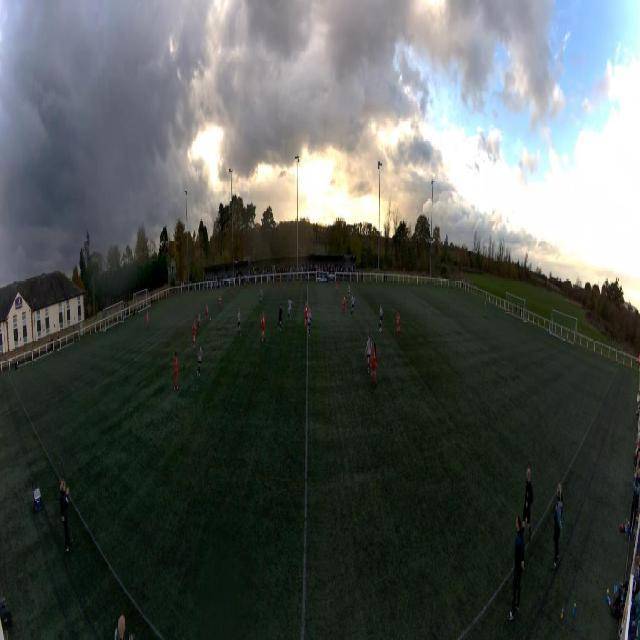ball: (210, 318, 211, 322)
player: (365, 332, 372, 378), (370, 345, 378, 385), (395, 309, 402, 339), (173, 351, 178, 392), (305, 304, 311, 338), (197, 340, 202, 378), (287, 296, 294, 321), (261, 312, 266, 342), (304, 301, 309, 331), (192, 317, 196, 351), (278, 303, 283, 330), (350, 292, 355, 318), (378, 303, 382, 334), (237, 309, 241, 338), (204, 304, 208, 326), (342, 293, 346, 315), (218, 291, 222, 310), (335, 279, 340, 293), (259, 288, 263, 305), (346, 284, 350, 301), (198, 311, 201, 330), (146, 310, 149, 328), (484, 301, 487, 318)
